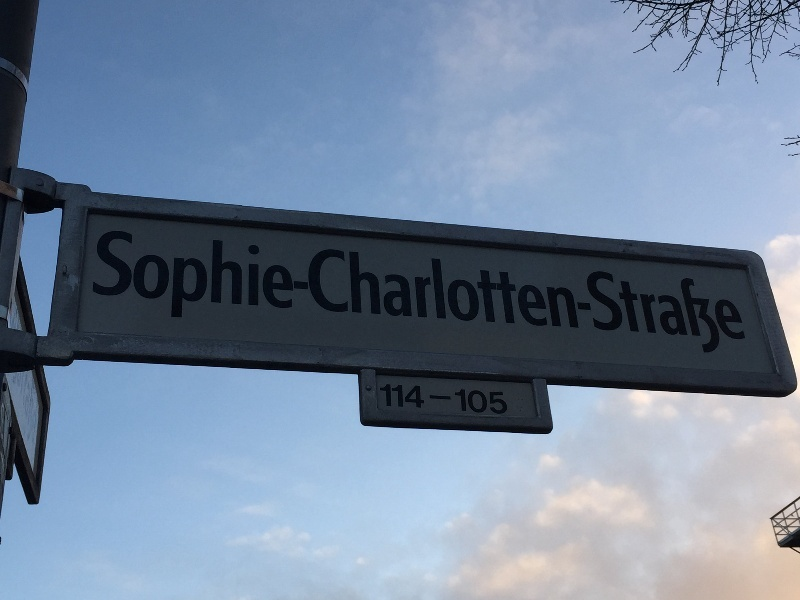text: (113, 229, 128, 359), (129, 229, 144, 359), (145, 229, 160, 359), (161, 229, 176, 359), (177, 229, 192, 359), (193, 229, 208, 359), (209, 229, 224, 359), (225, 229, 240, 359), (241, 229, 256, 359), (257, 229, 272, 359), (273, 229, 288, 359), (289, 229, 304, 359), (305, 229, 320, 359), (321, 229, 336, 359), (337, 229, 352, 359), (353, 229, 368, 359), (369, 229, 384, 359), (385, 229, 400, 359), (401, 229, 416, 359), (417, 229, 432, 359), (433, 229, 448, 359), (449, 229, 464, 359), (465, 229, 480, 359), (481, 229, 496, 359), (497, 229, 512, 359), (513, 229, 528, 359), (529, 229, 544, 359), (545, 229, 560, 359), (561, 229, 576, 359), (577, 229, 592, 359), (593, 229, 608, 359), (609, 229, 624, 359), (625, 229, 640, 359), (641, 229, 656, 359), (657, 229, 672, 359), (673, 229, 688, 359), (689, 229, 704, 359), (705, 229, 720, 359), (721, 229, 736, 359), (737, 229, 752, 359), (98, 229, 112, 359), (385, 382, 400, 416), (401, 382, 416, 416), (417, 382, 432, 416), (433, 382, 448, 416), (449, 382, 464, 416), (465, 382, 480, 416), (481, 382, 496, 416), (497, 382, 509, 416), (380, 382, 384, 416)
